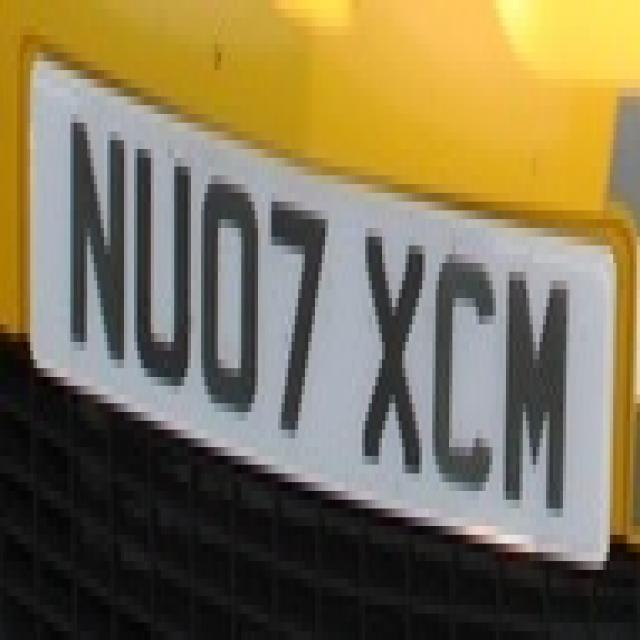licenseplate: (11, 28, 616, 602)
